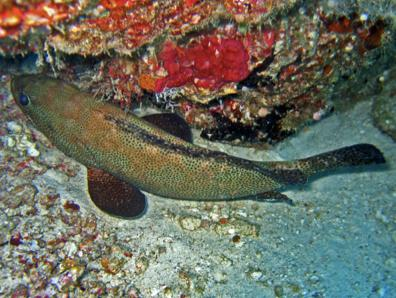Serranidae -Groupers-: (8, 69, 389, 221)
